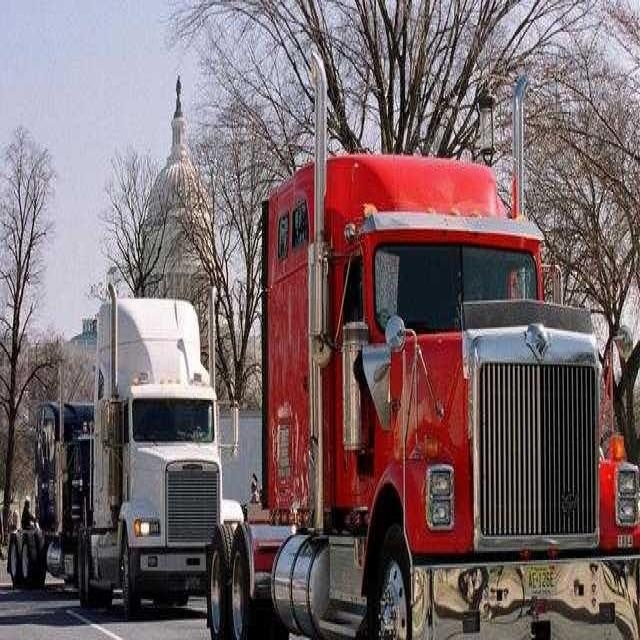Truck: (203, 149, 640, 640), (0, 291, 223, 623)
